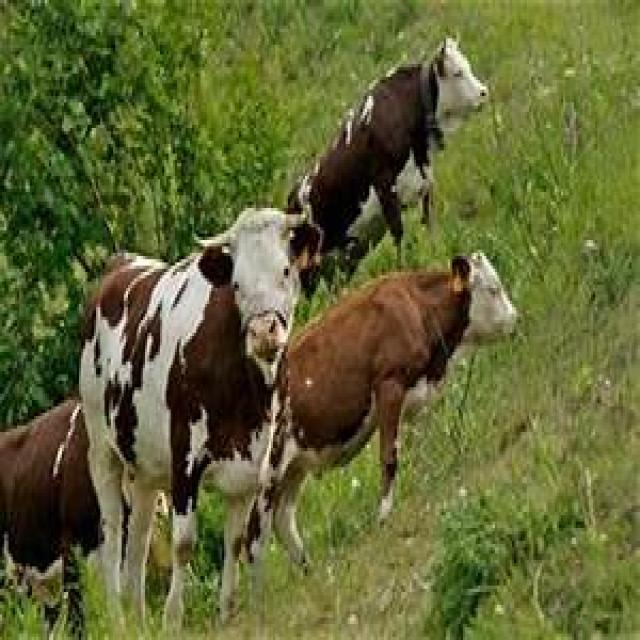cow: (79, 211, 297, 624), (258, 253, 521, 573), (286, 38, 489, 275)
